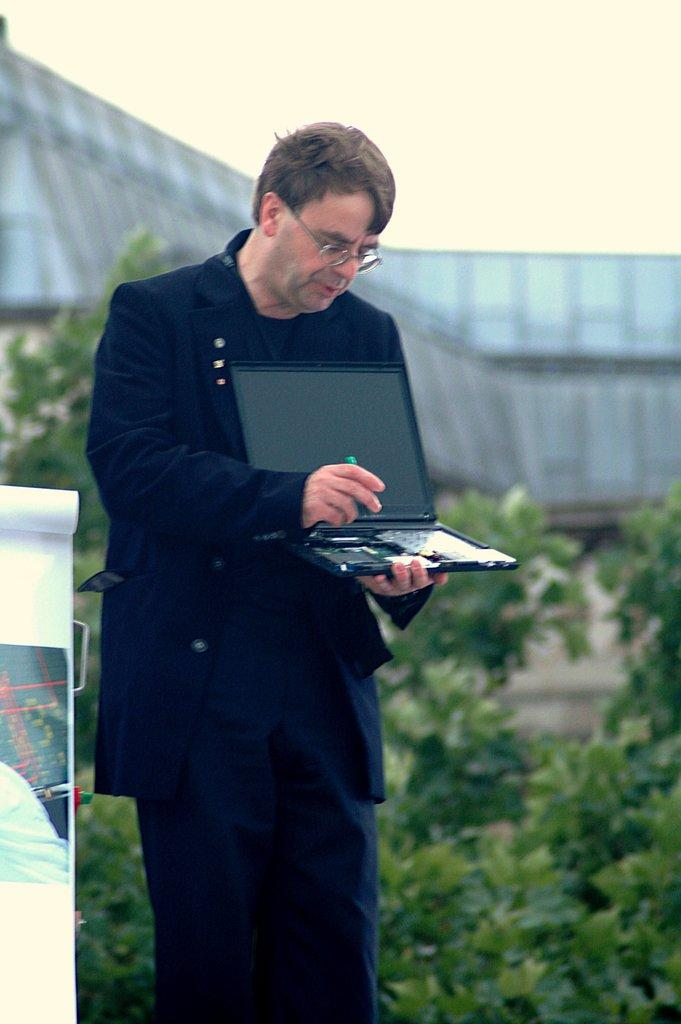Laptop: (227, 366, 511, 572)
